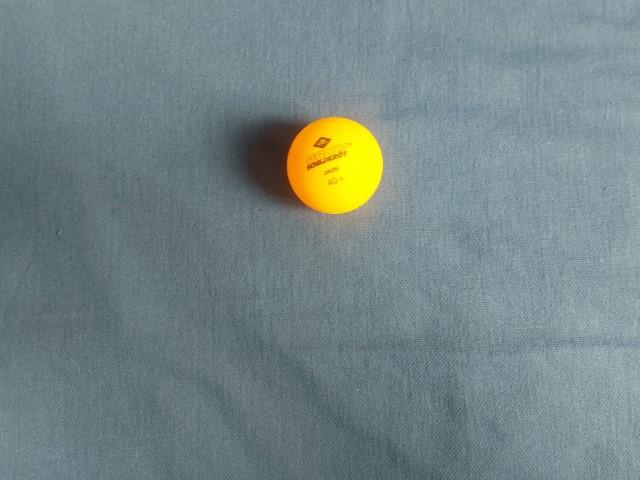oball: (251, 261, 359, 370)
